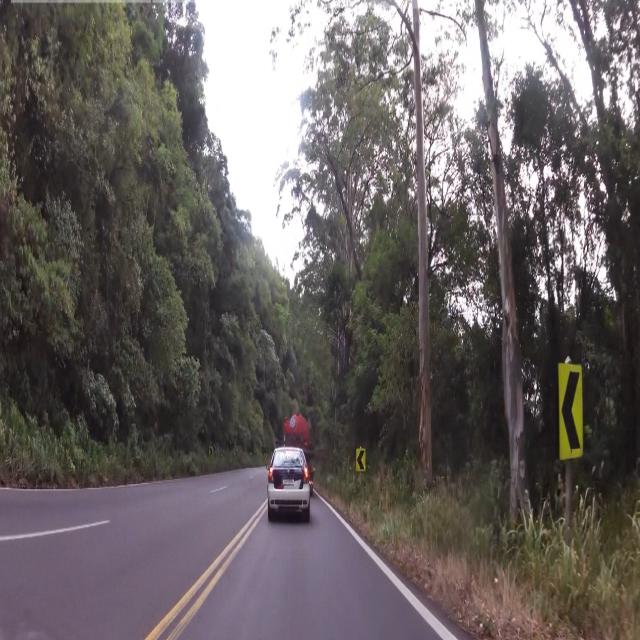Del: (557, 360, 585, 466)
